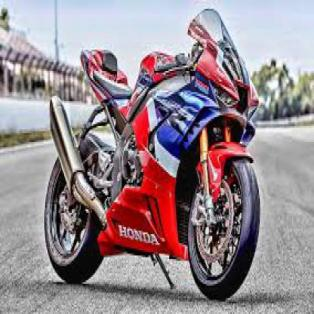Motocicleta: (38, 18, 263, 308)
